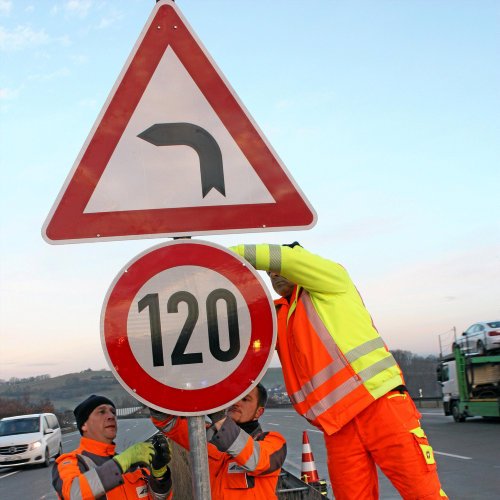Bend_to_left: (35, 1, 322, 245)
Speed_limit_120km: (98, 240, 281, 417)
